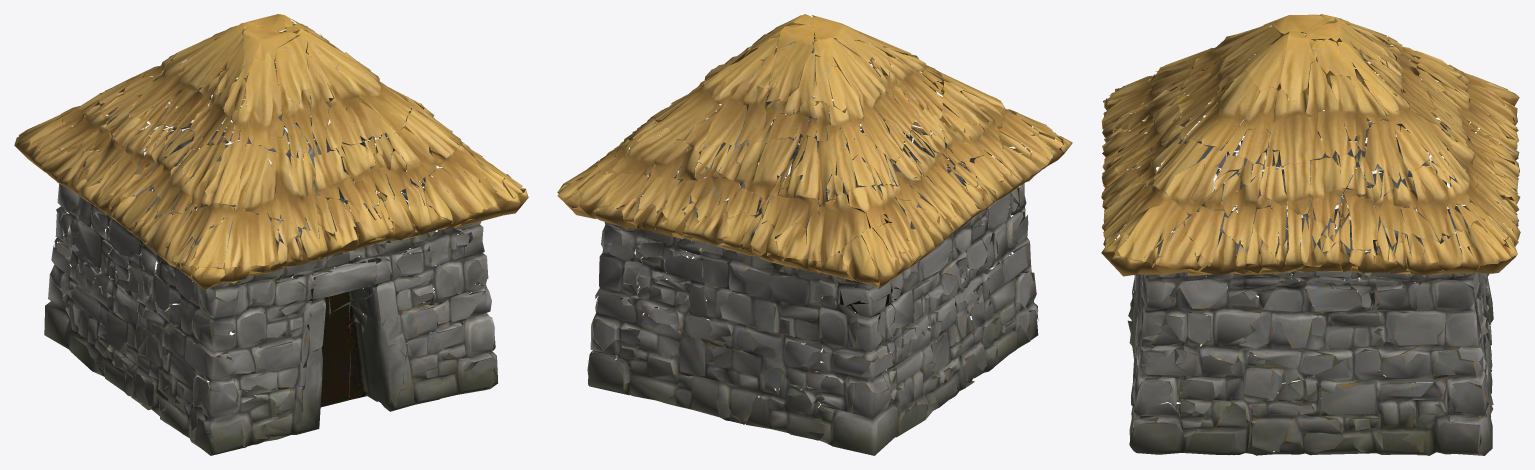
File: tawantinsuyu_casa.glb
3 views of the same model, side by side, from view 1: azimuth 30°, elevation 25°; view 2: azimuth 150°, elevation 25°; view 3: azimuth 270°, elevation 25° (orthographic). The views are drawn at different scales.
Parts seen in each view (by area): view 1: Mesh_0; view 2: Mesh_0; view 3: Mesh_0.
Boxes of the visible parts, left/top/right/bottom form: Mesh_0: left=14, top=14, right=528, bottom=455; Mesh_0: left=557, top=14, right=1072, bottom=455; Mesh_0: left=1101, top=14, right=1520, bottom=455.
Size of the model in its own units: 1.9 by 1.79 by 1.9.
1 material, 1 textured.
